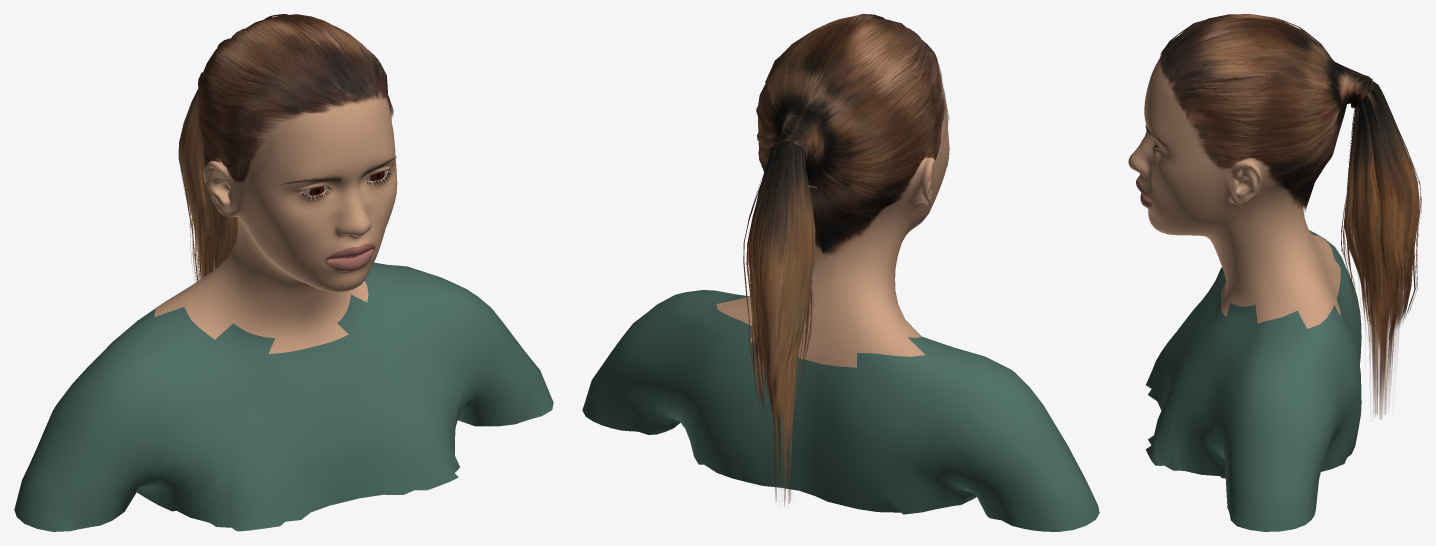
File: pilot-woman.glb
3 renders of one model, left to right at view 1: azimuth 30°, elevation 25°; view 2: azimuth 150°, elevation 25°; view 3: azimuth 270°, elevation 25°, orthographic. The views are drawn at different scales.
Visible parts, largest first — view 1: mpfb-face, mpfb-face.ponytail01; view 2: mpfb-face, mpfb-face.ponytail01; view 3: mpfb-face, mpfb-face.ponytail01.
Boxes of the visible parts, x1=… form: mpfb-face: x1=14, y1=92, x2=553, y2=531; mpfb-face.ponytail01: x1=178, y1=14, x2=393, y2=281; mpfb-face: x1=582, y1=71, x2=1099, y2=531; mpfb-face.ponytail01: x1=743, y1=14, x2=945, y2=506; mpfb-face: x1=1128, y1=57, x2=1361, y2=531; mpfb-face.ponytail01: x1=1159, y1=14, x2=1421, y2=419.
Size of the model in its own units: 0.4784 by 0.387 by 0.2582.
Materials: 9 (6 with a texture image).
